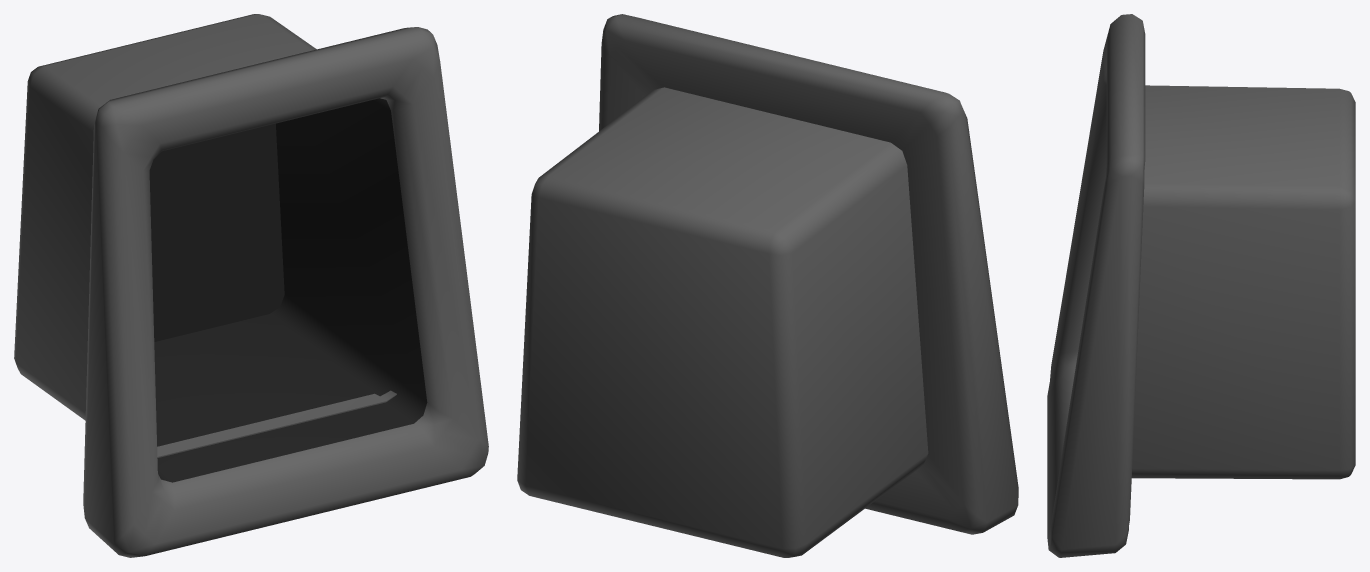
Rendered from Tunnel_3D.fbx.
3 views of the same model, side by side, from view 1: azimuth 30°, elevation 25°; view 2: azimuth 150°, elevation 25°; view 3: azimuth 270°, elevation 25° (orthographic). The views are drawn at different scales.
Visible parts, largest first — view 1: Tunnel_3D.002; view 2: Tunnel_3D.002; view 3: Tunnel_3D.002.
Part boxes in pixels (x1=…): Tunnel_3D.002: x1=14, y1=14, x2=488, y2=557; Tunnel_3D.002: x1=517, y1=14, x2=1018, y2=557; Tunnel_3D.002: x1=1047, y1=14, x2=1355, y2=557.
Size of the model in its own units: 270 by 291 by 206.
